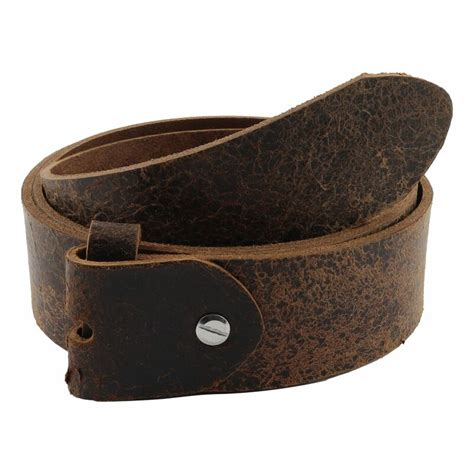cuero: (23, 73, 454, 402)
